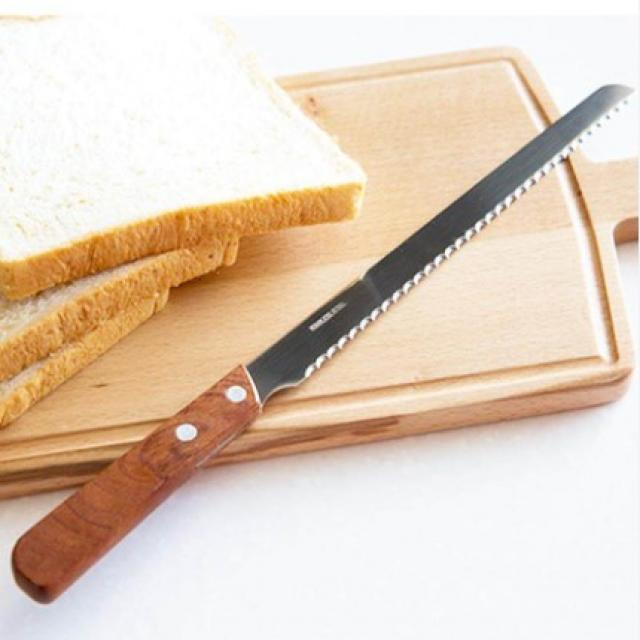Knife: (6, 75, 640, 616)
